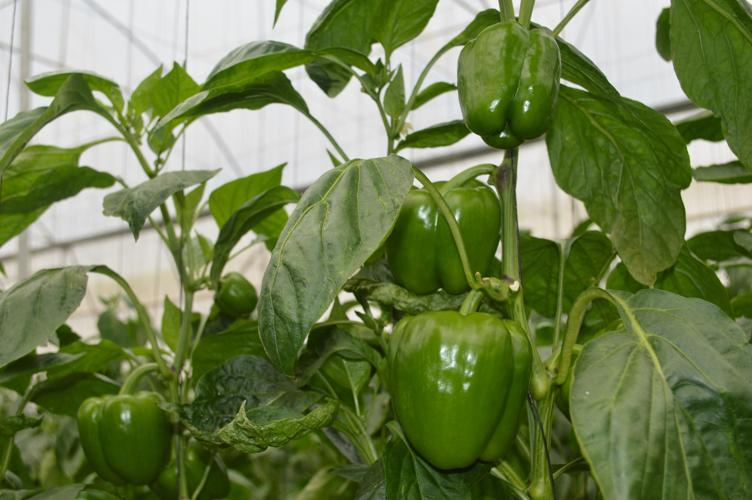BellPepper: (375, 310, 536, 469), (374, 167, 500, 298), (450, 13, 562, 157), (78, 383, 173, 500), (196, 271, 265, 312)
